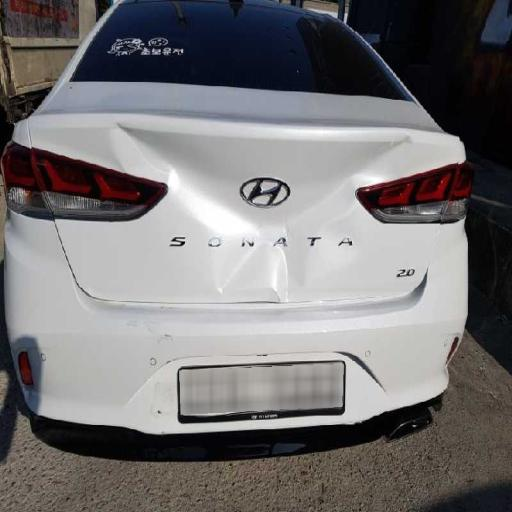dent: (113, 131, 374, 314)
scratch: (130, 332, 381, 436)
